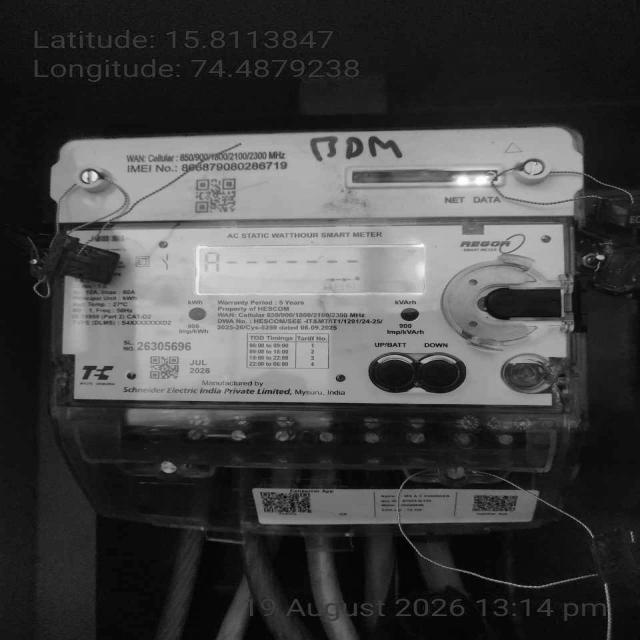meter: (58, 130, 567, 405)
